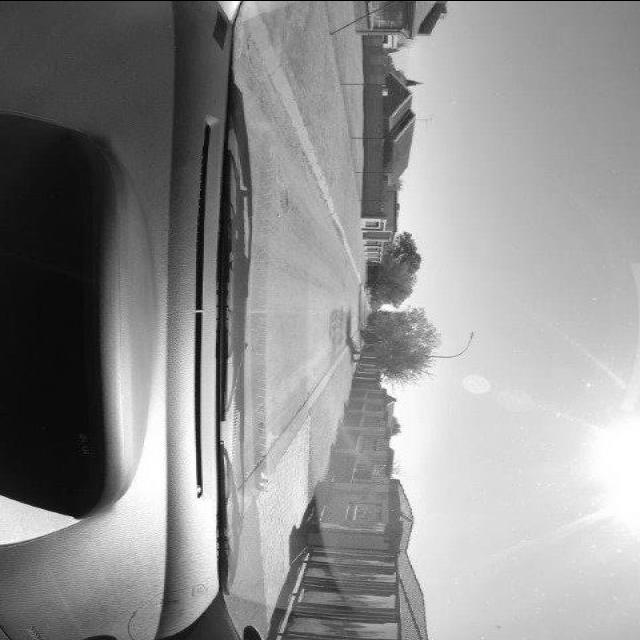lubang: (272, 181, 298, 217)
